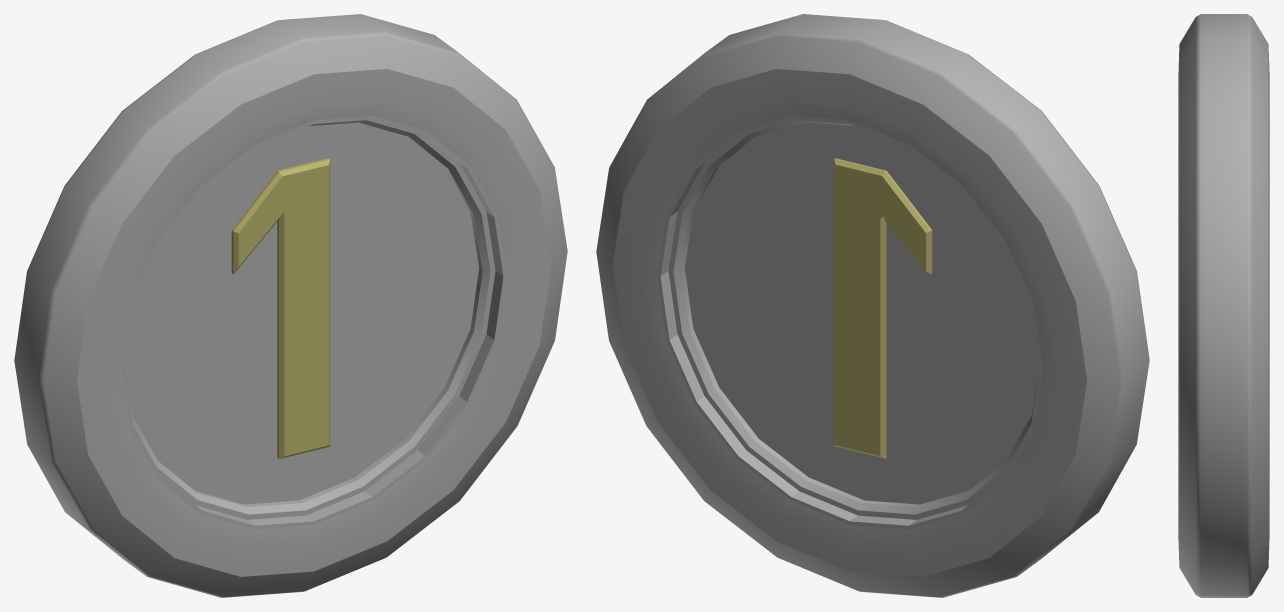
File: Coin_1.fbx
3 views of the same model, side by side, from view 1: azimuth 30°, elevation 25°; view 2: azimuth 150°, elevation 25°; view 3: azimuth 270°, elevation 25° (orthographic). The views are drawn at different scales.
Parts seen in each view (by area): view 1: Coin, pasted__pasted__pCube4; view 2: Coin, pasted__pasted__pCube3; view 3: Coin.
Part boxes in pixels (x1,y1,x2,y2): Coin: (14,14,567,597); pasted__pasted__pCube4: (231,158,330,458); Coin: (596,14,1149,597); pasted__pasted__pCube3: (834,158,932,458); Coin: (1178,14,1269,597).
Bounding box in the file's own units: 1.76 × 1.76 × 0.2724.
